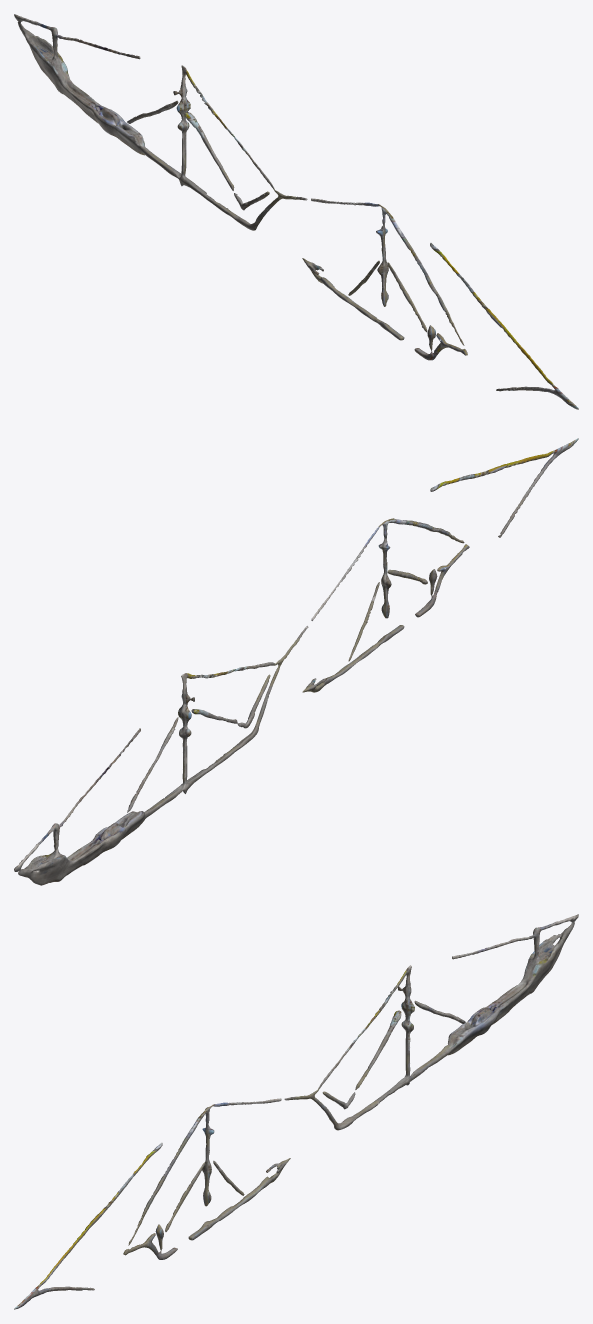
3 renders of one model, top to bottom at view 1: azimuth 30°, elevation 25°; view 2: azimuth 150°, elevation 25°; view 3: azimuth 330°, elevation 25°, orthographic.
Parts seen in each view (by area): view 1: file1; view 2: file1; view 3: file1.
Part boxes in pixels (x1,y1,x2,y2): file1: (14,14,578,409); file1: (14,438,578,885); file1: (14,914,578,1309).
Size of the model in its own units: 0.0404 by 0.2491 by 2.02.
1 material, 1 textured.
